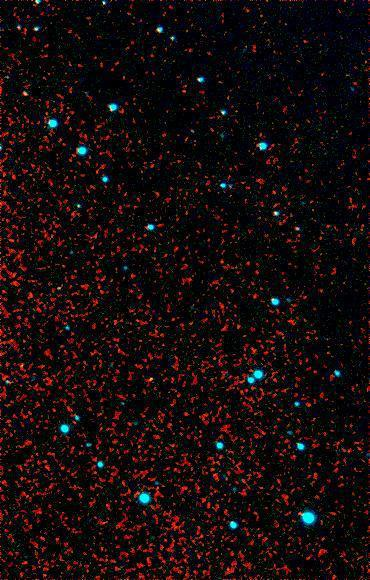star: (133, 365, 163, 395)
